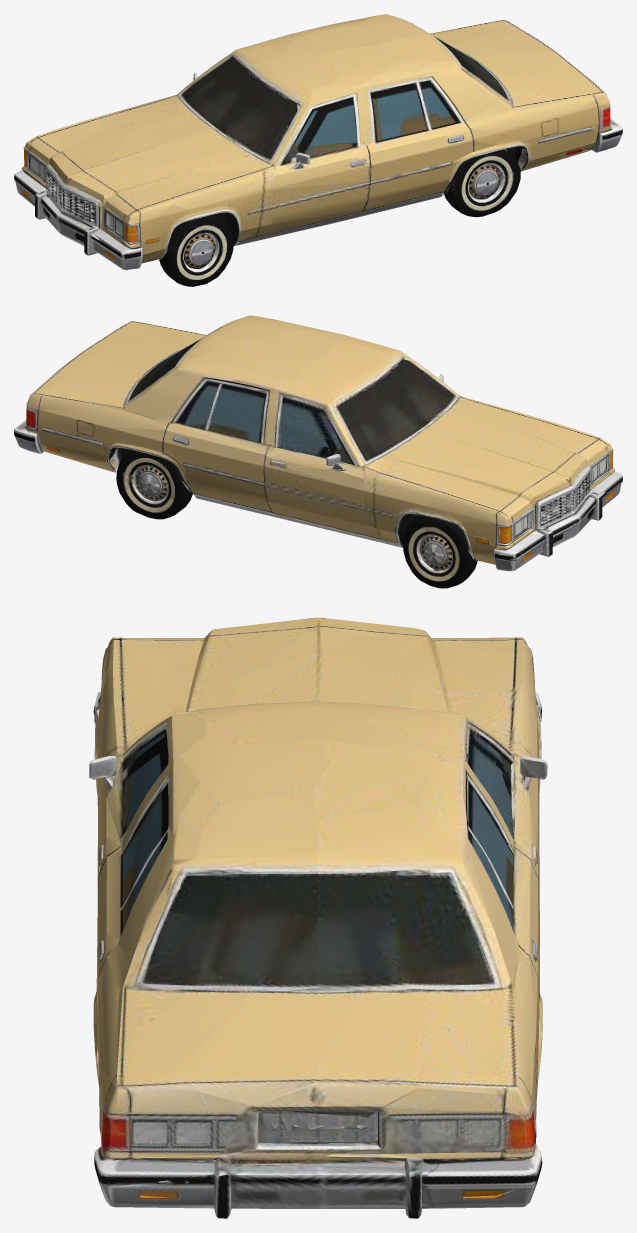
The model's file is vintage-sedan.glb.
3 views of the same model, one above another, from view 1: azimuth 30°, elevation 25°; view 2: azimuth 150°, elevation 25°; view 3: azimuth 270°, elevation 25° (orthographic). The views are drawn at different scales.
Visible parts, largest first — view 1: Mesh_0; view 2: Mesh_0; view 3: Mesh_0.
Boxes of the visible parts, x1=… form: Mesh_0: x1=14, y1=14, x2=622, y2=286; Mesh_0: x1=14, y1=315, x2=622, y2=588; Mesh_0: x1=89, y1=617, x2=547, y2=1218.
Bounding box in the file's own units: 1.9 × 0.5311 × 0.7312.
Materials: 1 (1 with a texture image).
